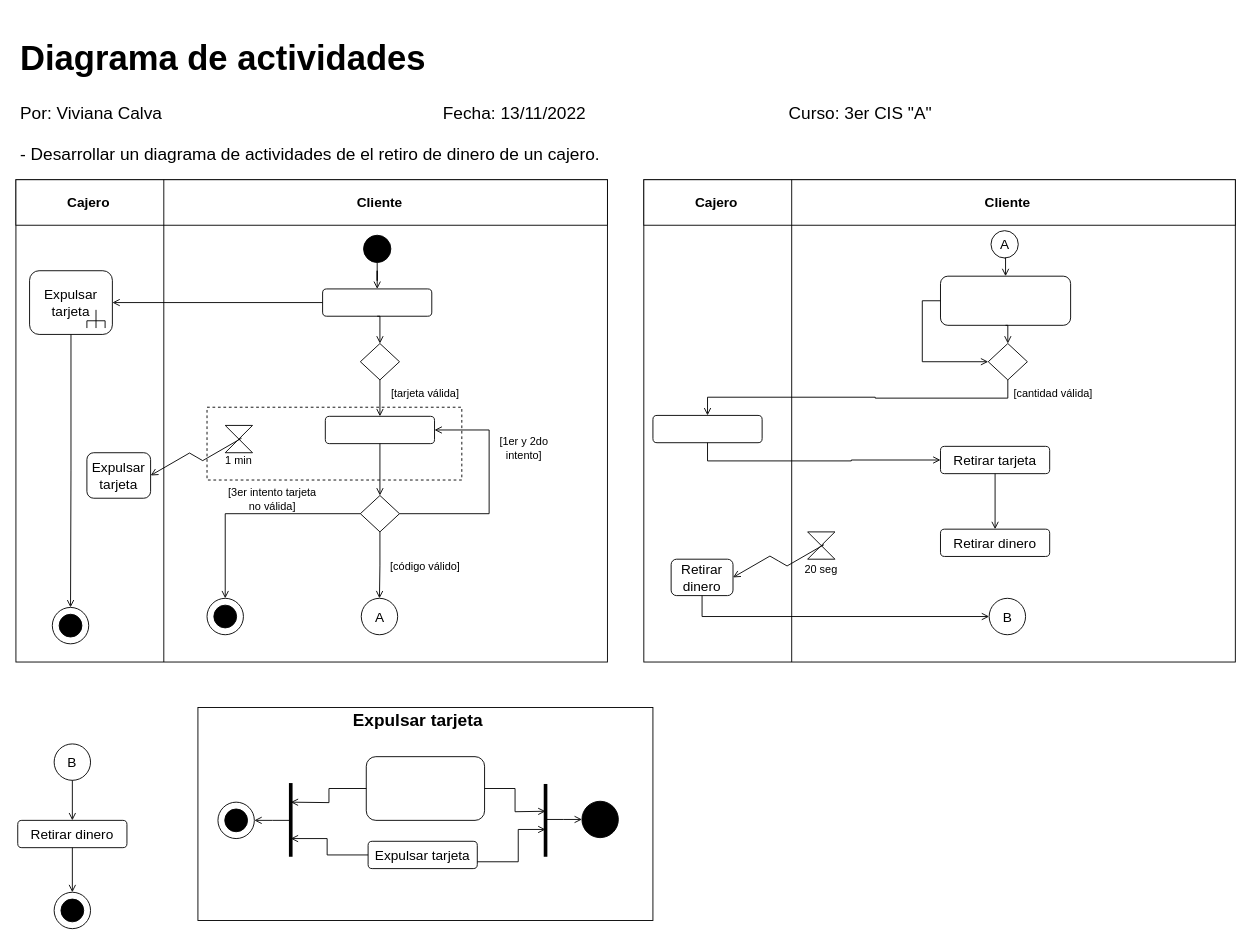
The diagram is 1251 pixels wide and 945 high, and some of its shapes have lost their labels. Each missing label, with the centre of its shape:
Arroja dinero: the point at 707,429
Ingresar código: the point at 379,429
Insertar tarjeta: the point at 377,302
Introducir cantidad: the point at 1005,300
Muestra mensaje tarjeta no válida: the point at 425,788
